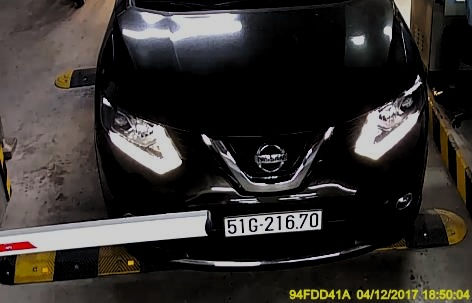plate: (225, 210, 321, 236)
